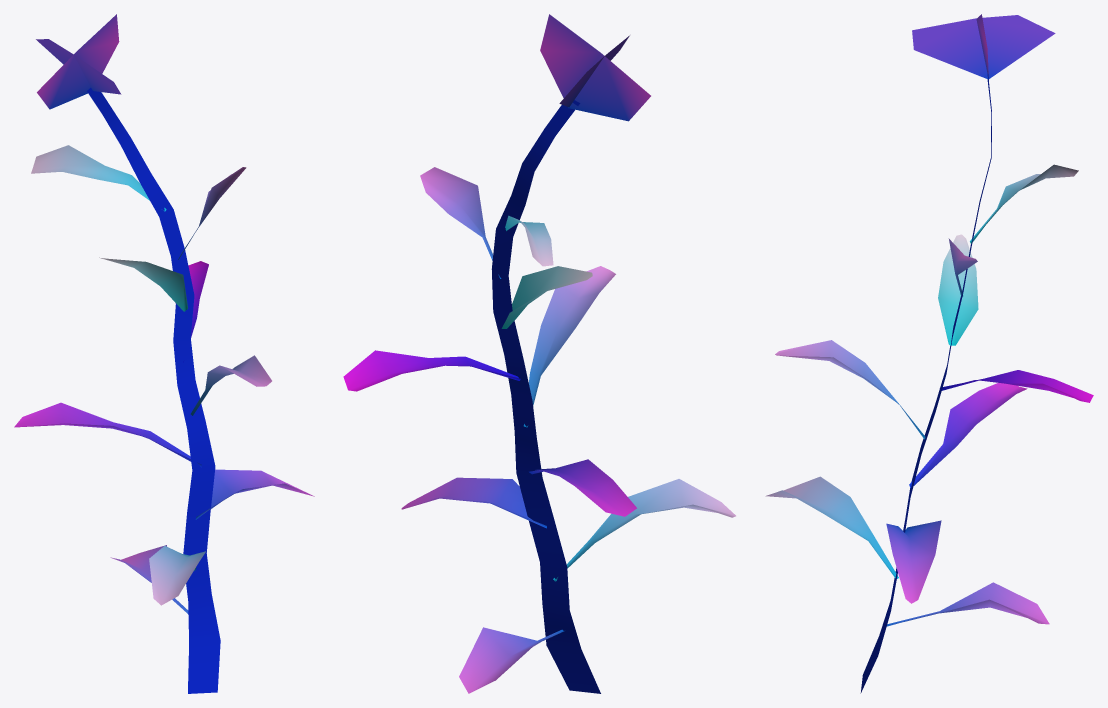
Rendered from Field_Poppy_vmcobd0ja_Mid_vmcobd0ja_VarA_LOD2.fbx.
The picture shows the model from 3 angles, left to right: view 1: azimuth 30°, elevation 25°; view 2: azimuth 150°, elevation 25°; view 3: azimuth 270°, elevation 25°; orthographic projection. The views are drawn at different scales.
Visible parts, largest first — view 1: _vyy4_VarA_LOD3; view 2: _vyy4_VarA_LOD3; view 3: _vyy4_VarA_LOD3.
Part boxes in pixels (x1=…): _vyy4_VarA_LOD3: x1=14, y1=14, x2=314, y2=693; _vyy4_VarA_LOD3: x1=343, y1=14, x2=735, y2=693; _vyy4_VarA_LOD3: x1=765, y1=14, x2=1093, y2=693.
Size of the model in its own units: 27.12 by 65.95 by 29.8.
